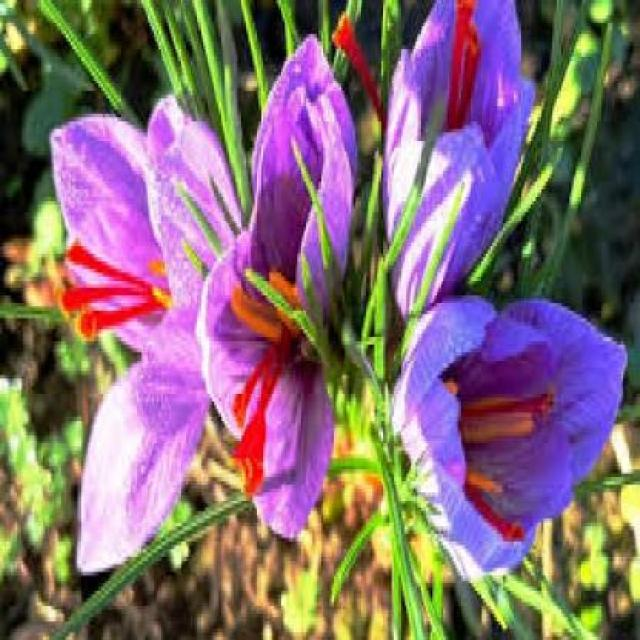Flower: (45, 102, 244, 572), (201, 37, 356, 543), (393, 296, 624, 582), (382, 0, 526, 326)
stigma: (331, 12, 385, 114), (441, 0, 477, 131), (240, 361, 272, 503), (64, 240, 150, 292), (75, 301, 155, 347), (470, 489, 531, 548), (231, 352, 273, 430), (57, 281, 143, 317)
